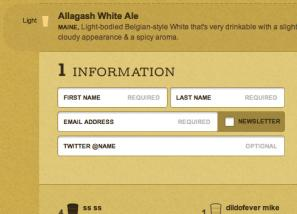checkbox: (224, 116, 280, 127)
field: (57, 136, 284, 156), (57, 112, 218, 132), (170, 87, 284, 108), (57, 87, 168, 108)
